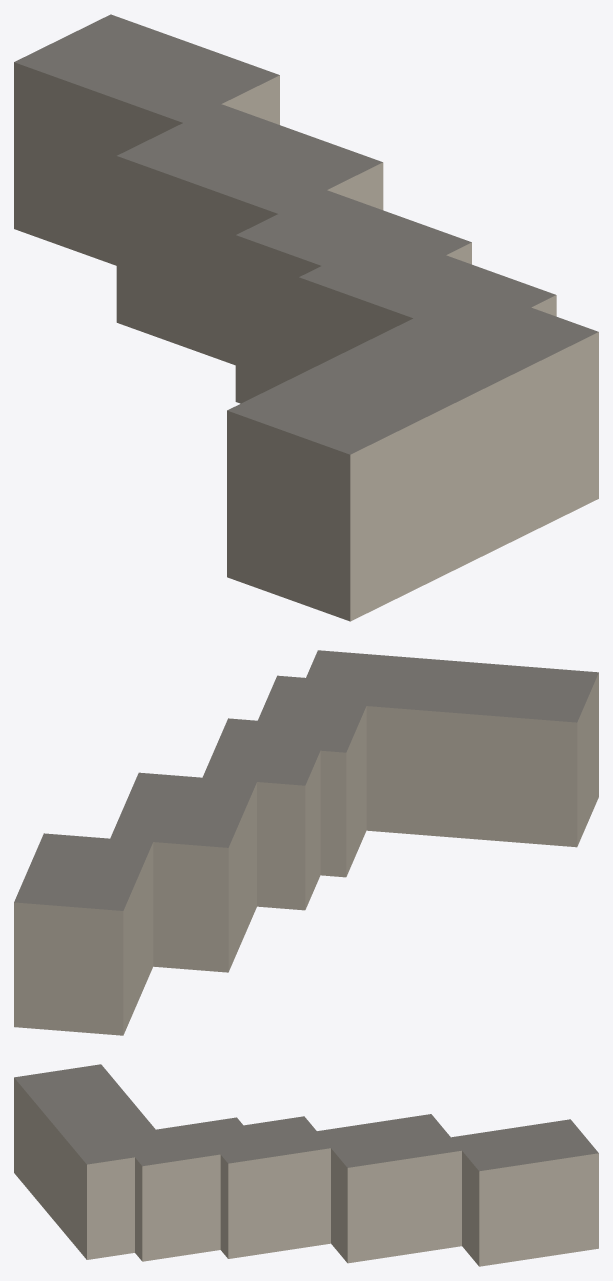
3 views of the same model, one above another, from view 1: azimuth 30°, elevation 25°; view 2: azimuth 150°, elevation 25°; view 3: azimuth 270°, elevation 25° (orthographic). The views are drawn at different scales.
Parts seen in each view (by area): view 1: HP-w859457485; view 2: HP-w859457485; view 3: HP-w859457485.
Boxes of the visible parts, bbox=[...] form: HP-w859457485: bbox=[14, 14, 598, 621]; HP-w859457485: bbox=[14, 650, 598, 1035]; HP-w859457485: bbox=[14, 1064, 598, 1266].
Size of the model in its own units: 43.28 by 18 by 99.95.
